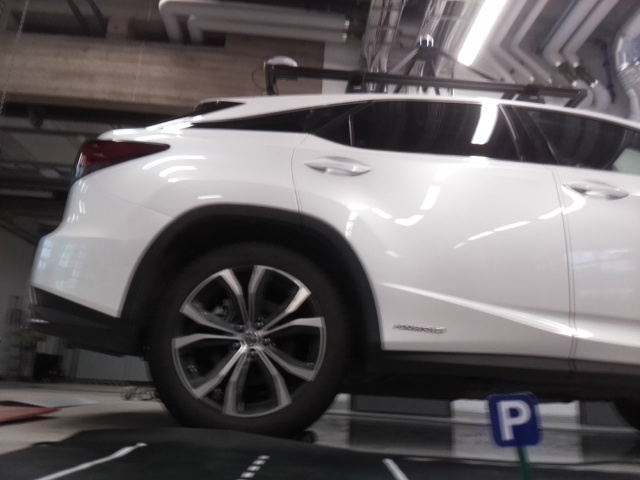Parking: (487, 396, 542, 445)
